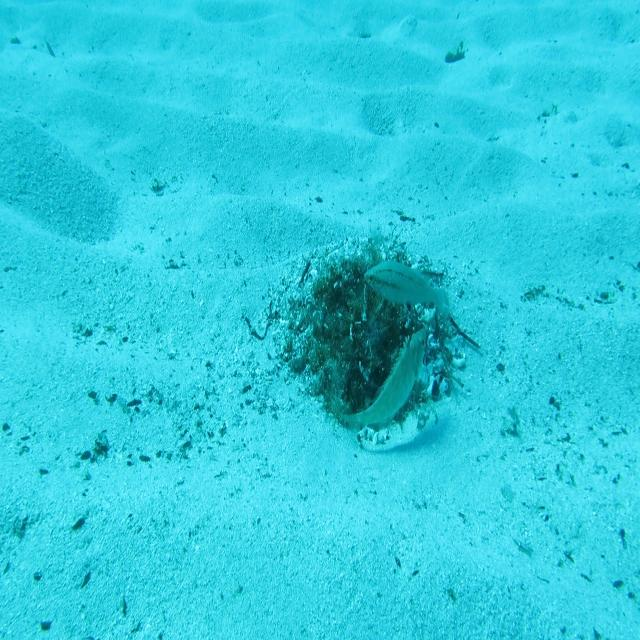BEND: (339, 324, 428, 440)
core_nest: (344, 281, 386, 330)
female: (362, 257, 450, 322)
nest: (262, 220, 472, 456)
vegetation: (445, 44, 467, 66)
